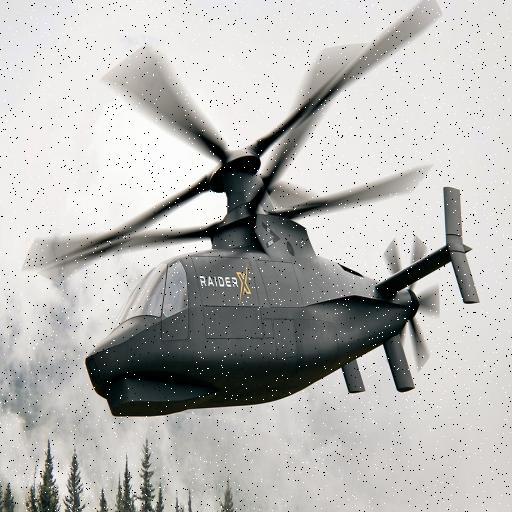helicopter: (12, 1, 495, 461)
